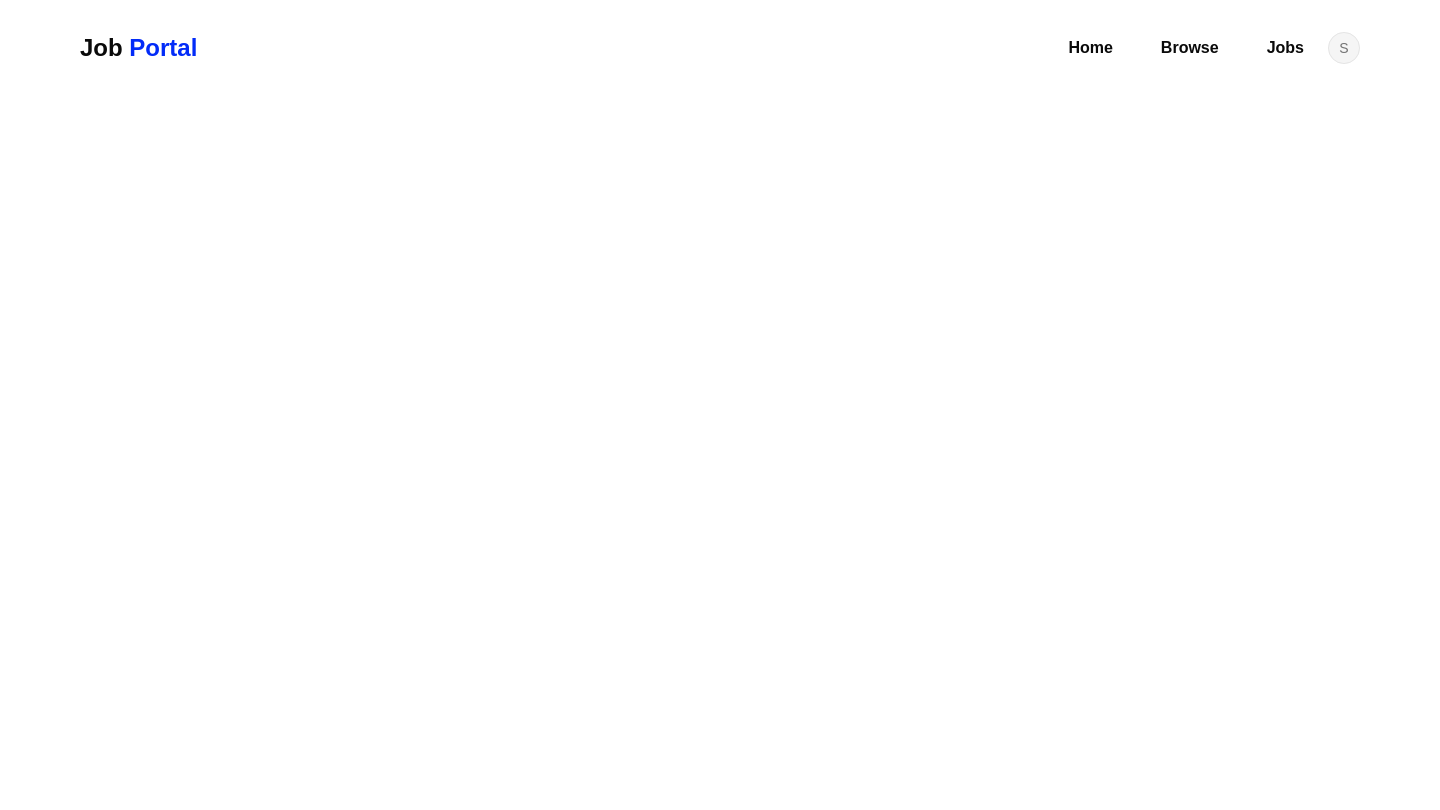
Test case: Navbar profile menu › shows initials when the profile photo is missing
The image size is (1440, 810).
Click the button named "Open profile menu": (1344, 48) [1328, 32, 1360, 64]
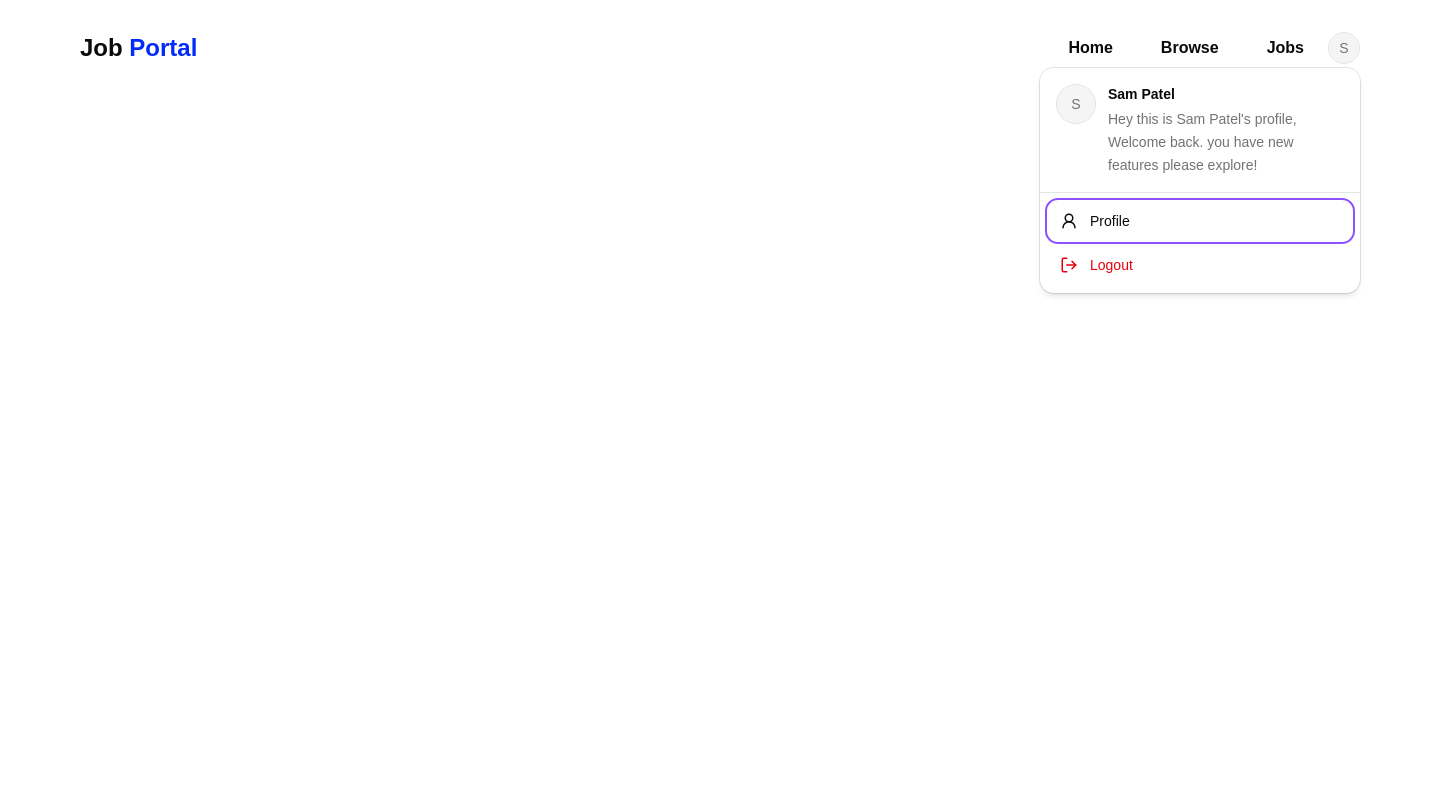
Expected: the text "S" is shown 2 times, [1328, 32, 1360, 64]; [1056, 84, 1096, 124]
